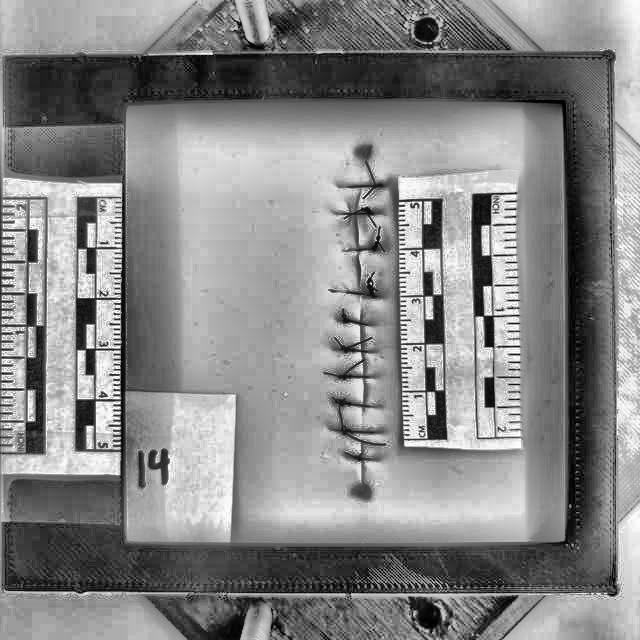incision_line: (358, 151, 368, 497)
scale_marker: (402, 392, 429, 440)
suture_d: (353, 250, 366, 292), (351, 213, 364, 250), (358, 293, 368, 322), (359, 376, 368, 408), (358, 405, 368, 433), (358, 322, 367, 352), (358, 184, 367, 213), (359, 350, 368, 377), (359, 431, 367, 459)
suture_l: (334, 397, 365, 410), (331, 425, 362, 437), (333, 288, 363, 298), (335, 345, 362, 354), (338, 183, 365, 191), (344, 451, 362, 462), (340, 317, 362, 326), (336, 211, 364, 218), (340, 373, 364, 380), (344, 248, 364, 255)
suture_r: (358, 247, 377, 255), (365, 184, 384, 190), (361, 428, 379, 434), (358, 294, 378, 299), (358, 212, 374, 218), (362, 456, 374, 464), (359, 348, 370, 356), (364, 405, 380, 410), (357, 324, 372, 328), (362, 374, 372, 380)
